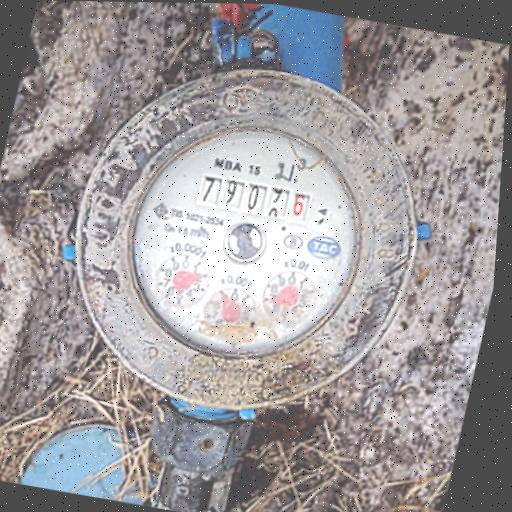0: (244, 183, 265, 209)
6: (290, 193, 310, 219)
7: (198, 177, 222, 204)
9: (221, 180, 245, 208), (266, 189, 290, 216)
border_water_meter_number: (189, 170, 319, 226)
